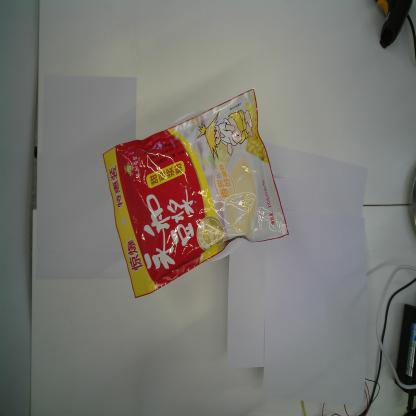Instant Drink: (100, 84, 290, 301)
